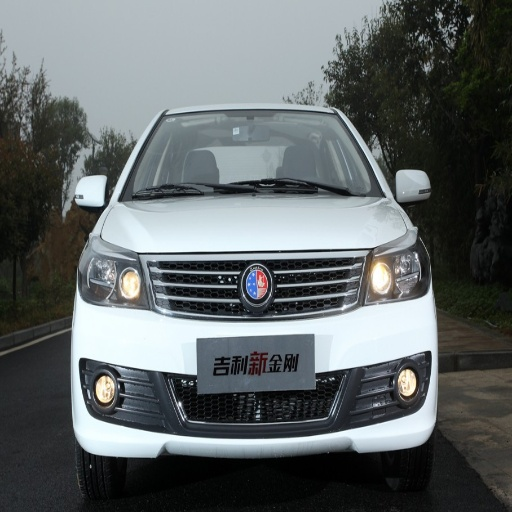front_bumper: (77, 248, 437, 446)
front_right_light: (80, 240, 146, 307)
hood: (101, 198, 409, 252)
left_mirror: (394, 169, 432, 205)
